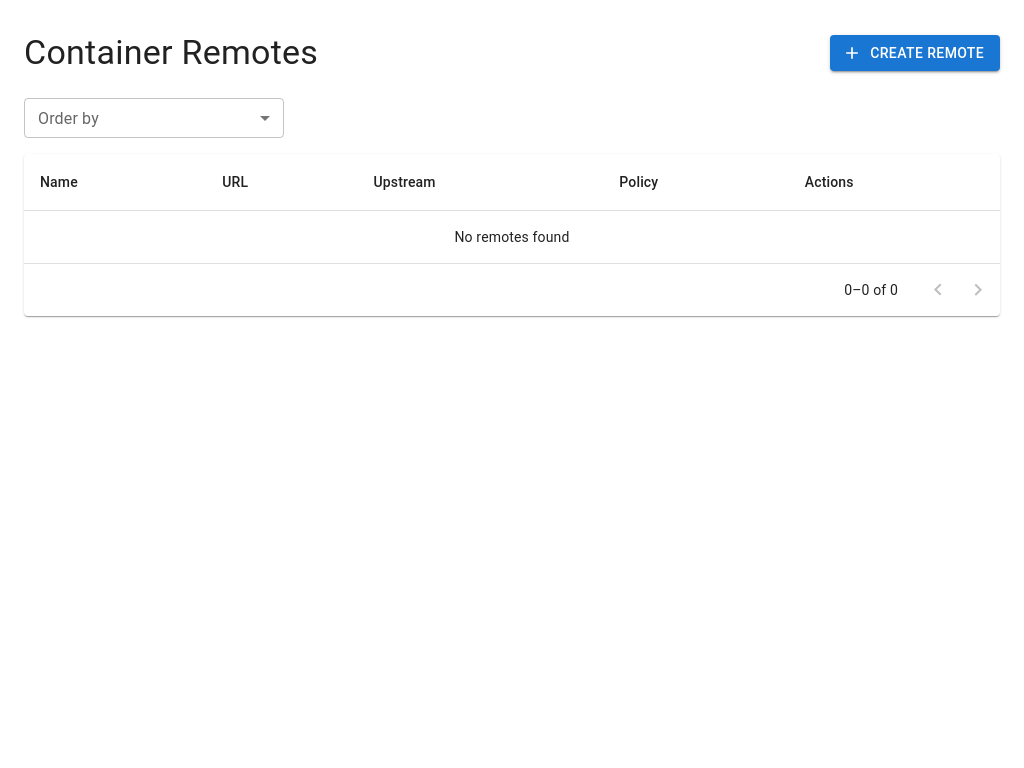
Test: Container plugin via generic components › requires upstream name when creating a remote
Expected: the heading "Container Remotes" is shown, [24,32,318,74]
Click the button "Create Remote".
click(915, 53)  # box [830,35,1000,71]
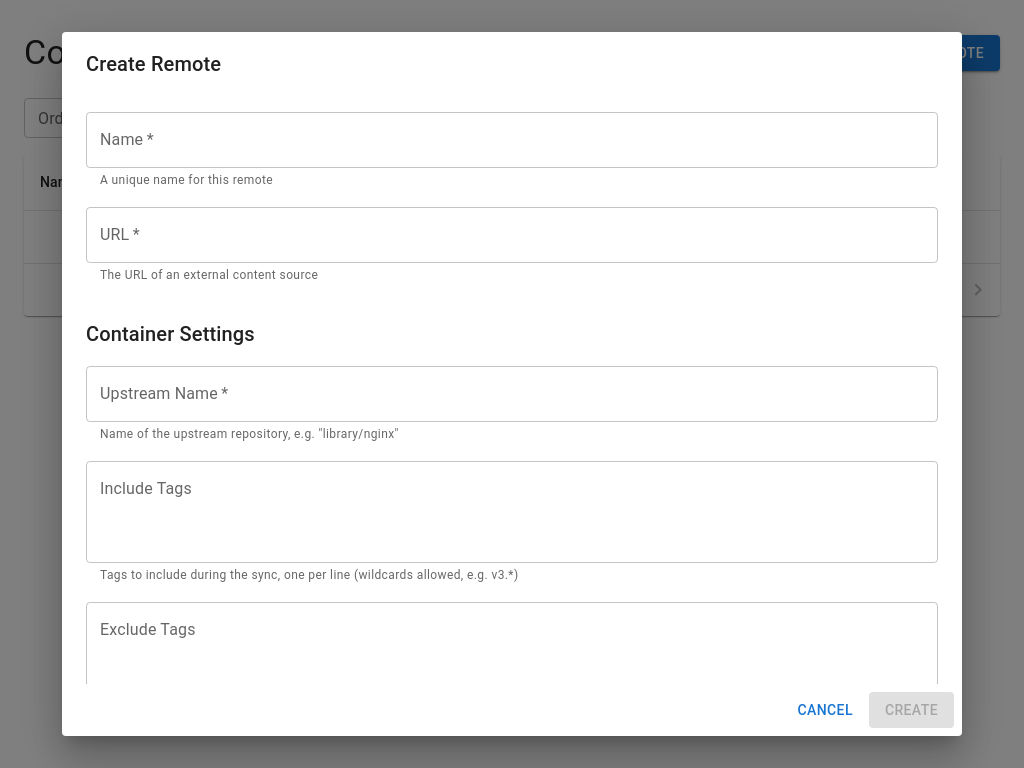
Type "registry" into the field labelled "Name".
click(512, 140); type("registry")  # box [86,112,938,168]
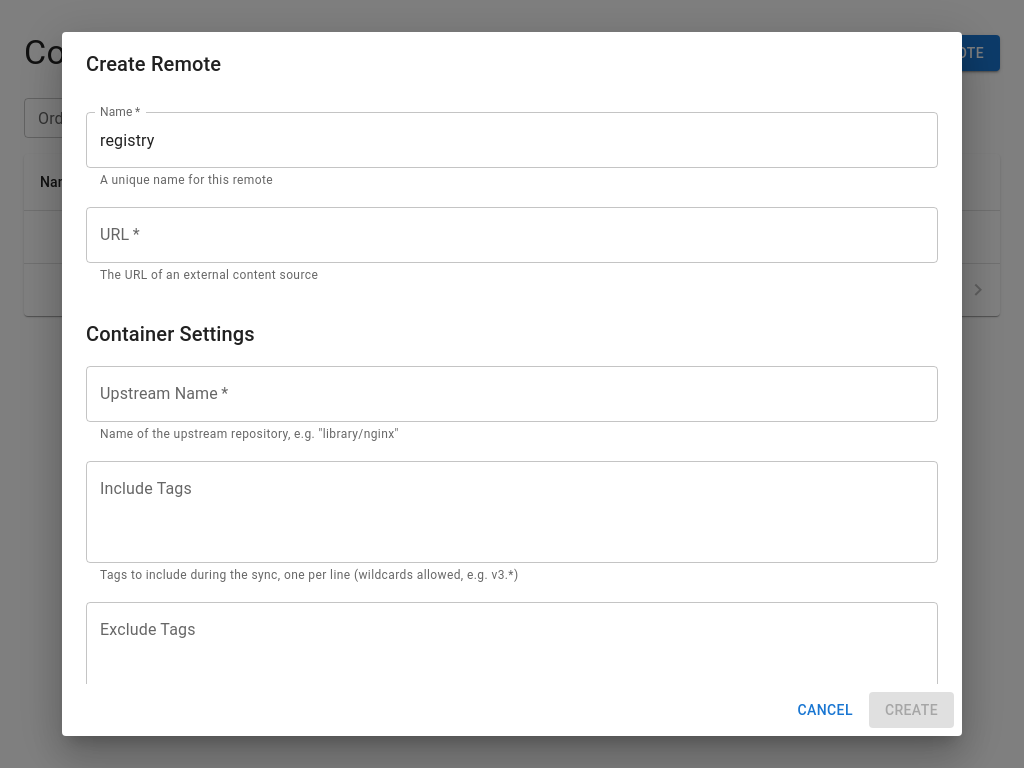
Type "https://registry-1.docker.io" into the field labelled "URL".
click(512, 235); type("https://registry-1.docker.io")  # box [86,207,938,263]
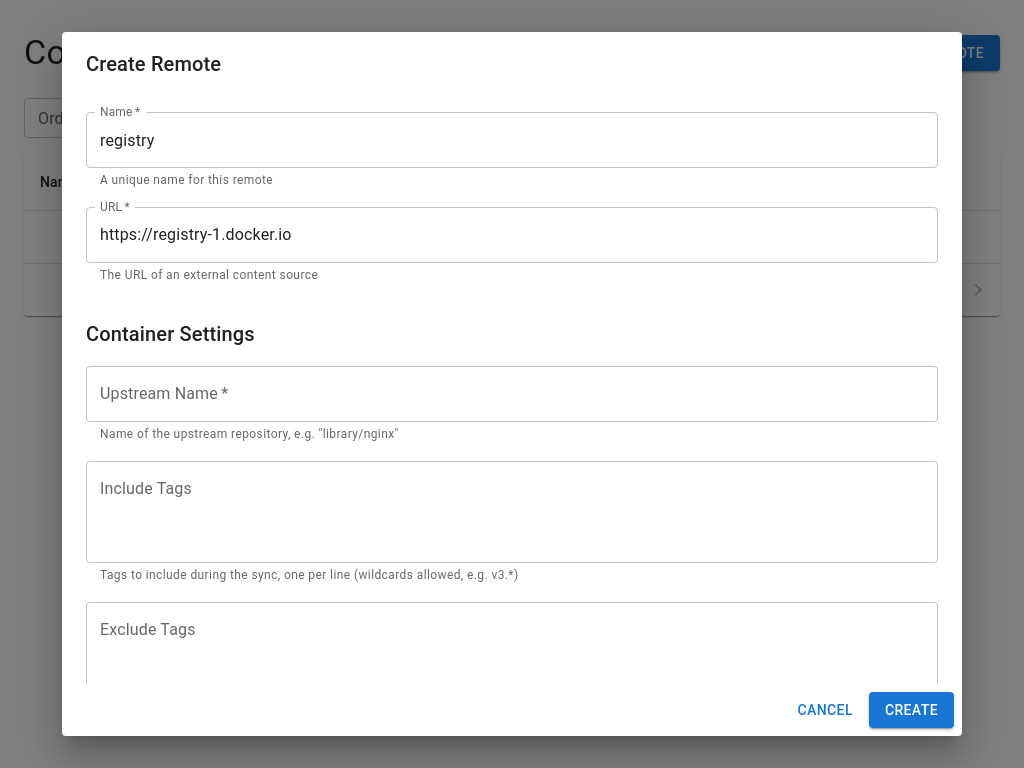
Click the button "Create".
click(911, 710)  # box [869,692,954,728]
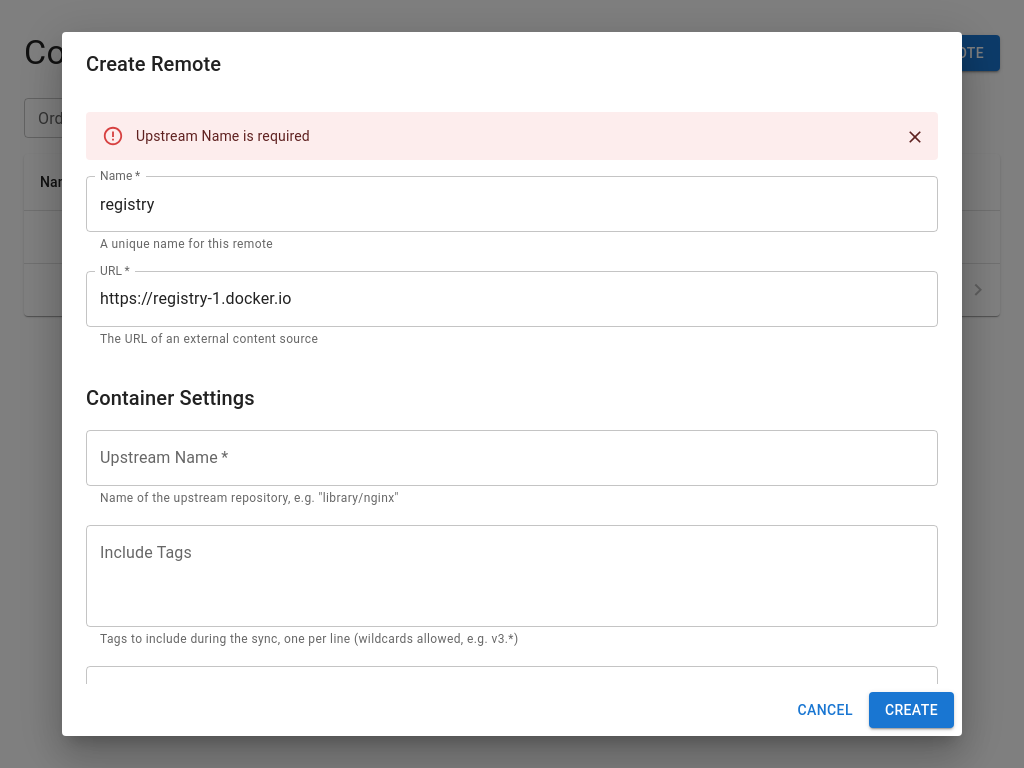
Expected: the text "Upstream Name is required" is shown, [136,128,310,144]
